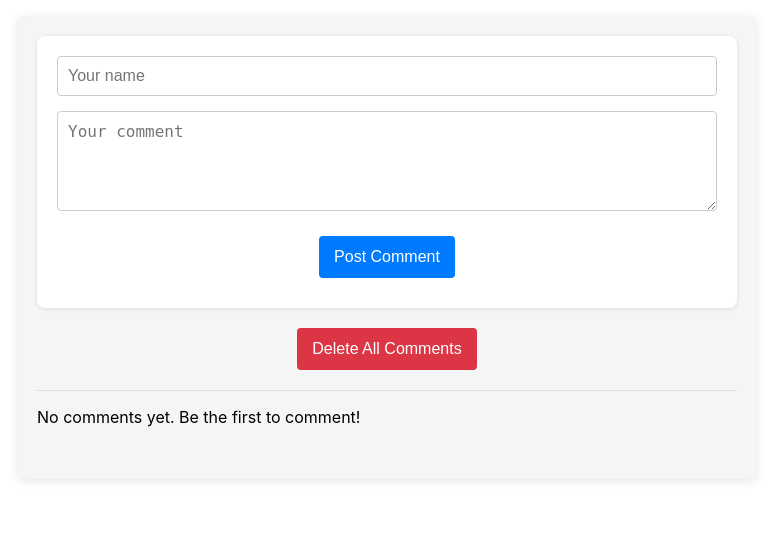
CommentsFeed Component › should display a success alert when a comment is posted
Type "John" into the field with placeholder "Your name" at (387, 76), box [57,56,717,96]
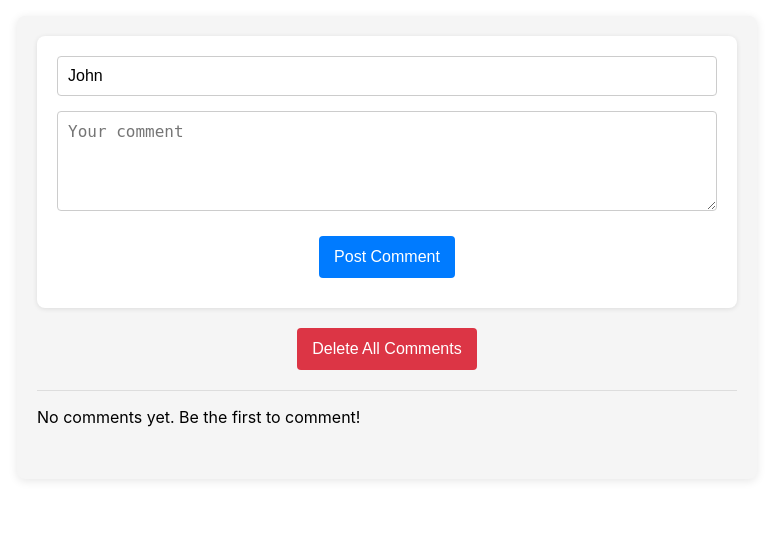
Type "Hello world!" into the text box with placeholder "Your comment" at (387, 161), box [57,111,717,211]
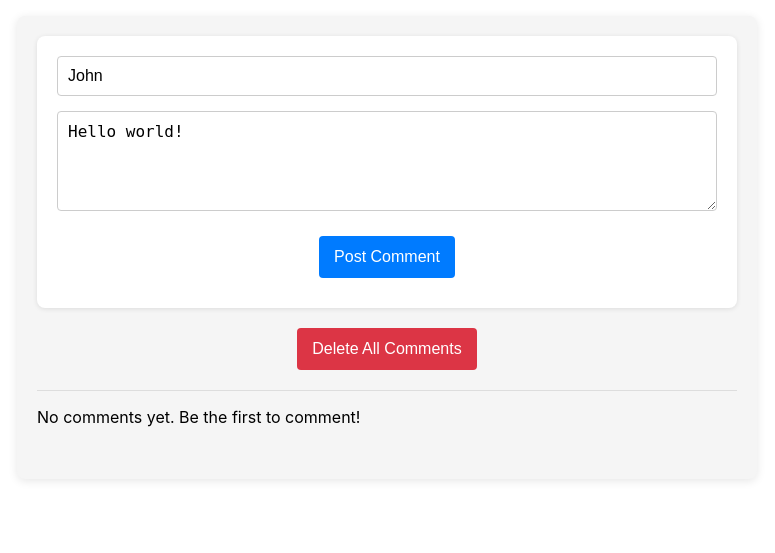
Click the button "Post Comment" at (387, 257), box [319,236,455,278]
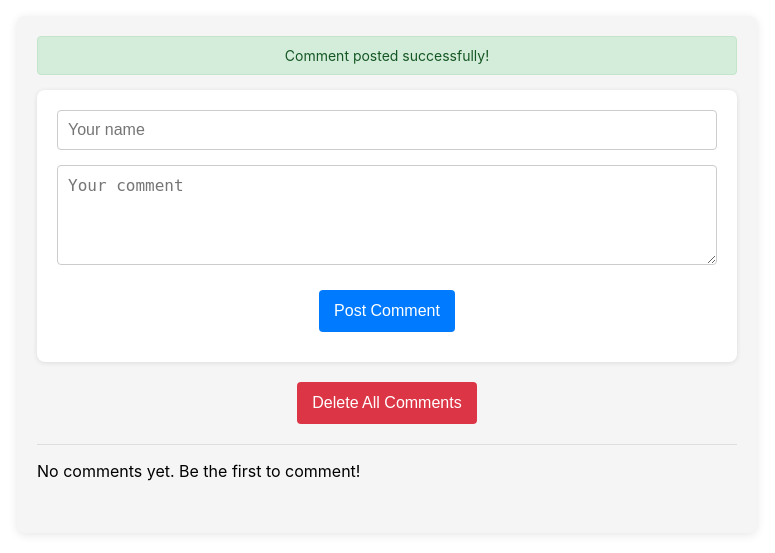
expect the text "Comment posted successfully!" is shown: met, box [37,36,737,75]
